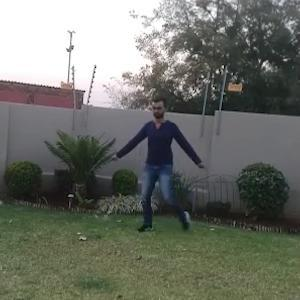land: (114, 101, 211, 229)
